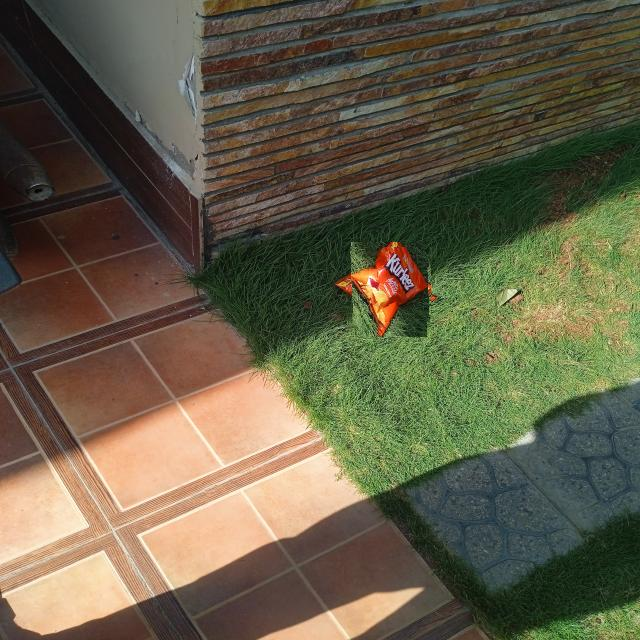Plastic: (346, 247, 432, 332)
